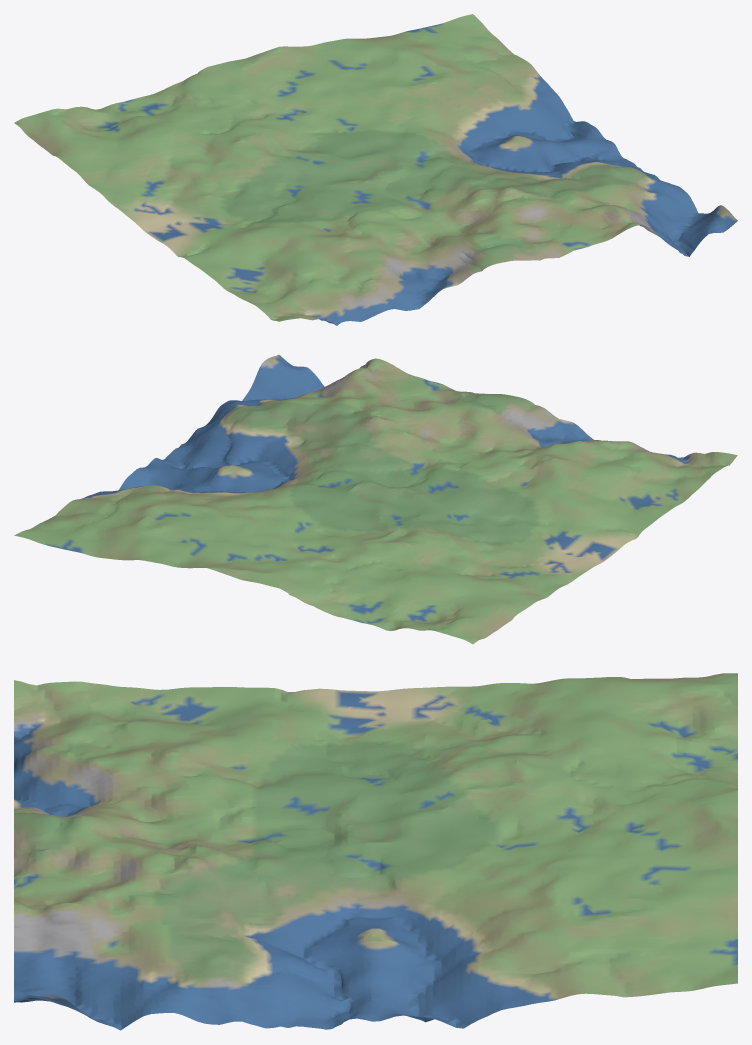
Rendered from terrain-generator-export-1.glb.
3 renders of one model, top to bottom at view 1: azimuth 30°, elevation 25°; view 2: azimuth 150°, elevation 25°; view 3: azimuth 270°, elevation 25°, orthographic. The views are drawn at different scales.
Bounding box in the file's own units: 1200 × 130 × 1200.
